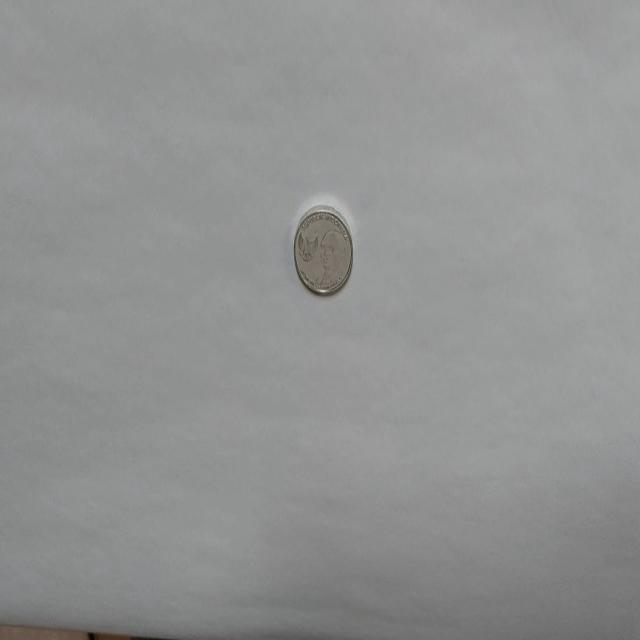lima ratus rupiah: (292, 204, 353, 296)
